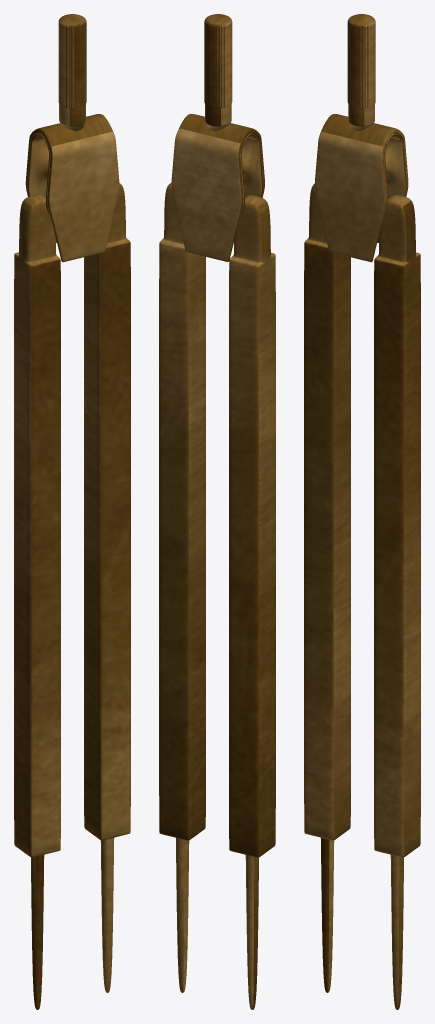
Rendered from dividing-compass.glb.
3 renders of one model, left to right at view 1: azimuth 30°, elevation 25°; view 2: azimuth 150°, elevation 25°; view 3: azimuth 330°, elevation 25°, orthographic.
Parts seen in each view (by area): view 1: AnyConv.com__LangenZirkel; view 2: AnyConv.com__LangenZirkel; view 3: AnyConv.com__LangenZirkel.
Part boxes in pixels (x1,y1,x2,y2): AnyConv.com__LangenZirkel: [14, 14, 130, 1009]; AnyConv.com__LangenZirkel: [159, 14, 275, 1009]; AnyConv.com__LangenZirkel: [304, 14, 420, 1009].
Bounding box in the file's own units: 2.7 × 24.95 × 1.09.
Materials: 1 (1 with a texture image).
